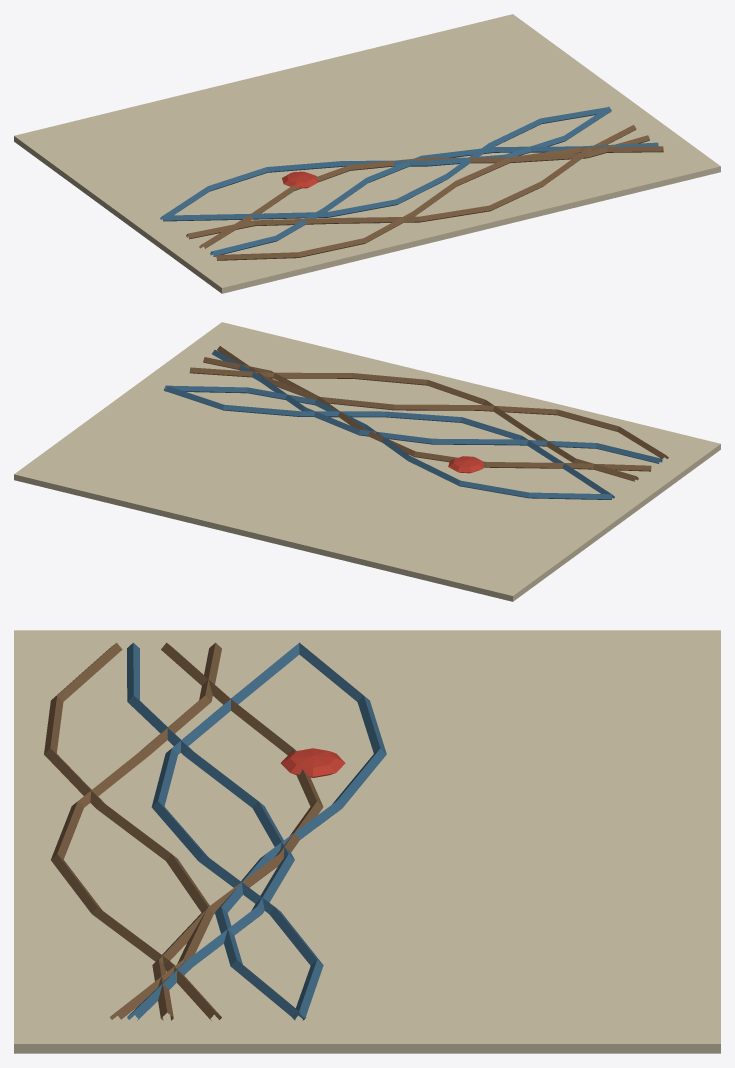
File: Hut_Map.fbx
3 renders of one model, top to bottom at view 1: azimuth 30°, elevation 25°; view 2: azimuth 150°, elevation 25°; view 3: azimuth 270°, elevation 25°, orthographic. The views are drawn at different scales.
Parts seen in each view (by area): view 1: Hut_Map; view 2: Hut_Map; view 3: Hut_Map.
Boxes of the visible parts, x1,y1,x2,y2 form: Hut_Map: (14,14,720,293); Hut_Map: (14,322,720,601); Hut_Map: (14,630,720,1053).
Bounding box in the file's own units: 18 × 0.45 × 13.
